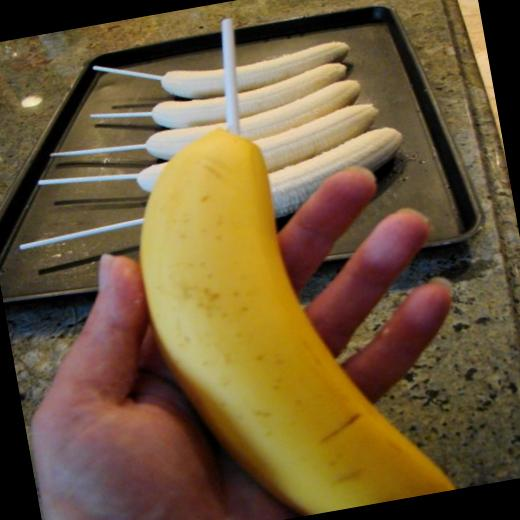Banana: (116, 94, 462, 520), (130, 101, 382, 193), (142, 78, 361, 158), (261, 122, 413, 218), (148, 66, 352, 135), (159, 38, 354, 106)
